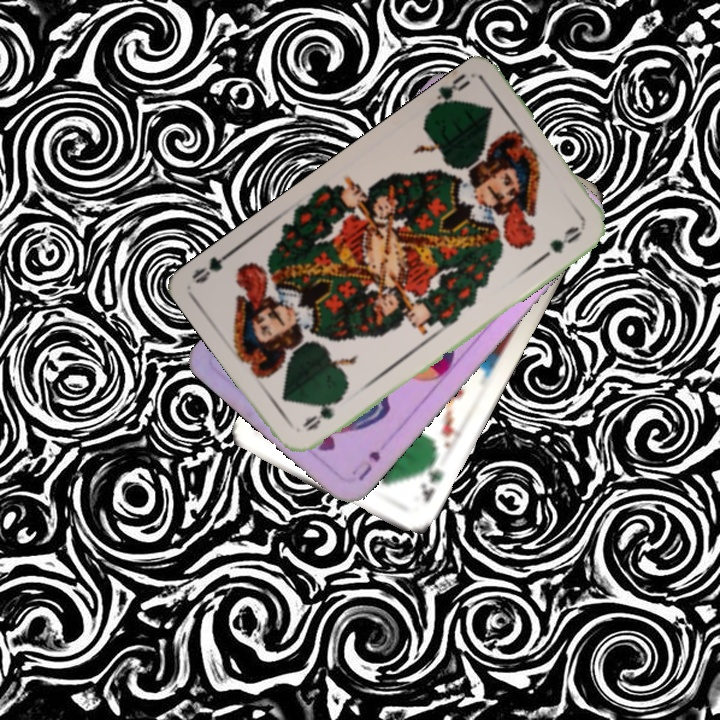GK: (416, 457, 446, 506)
GO: (425, 71, 473, 116), (298, 390, 347, 434)
SU: (354, 447, 383, 484)
